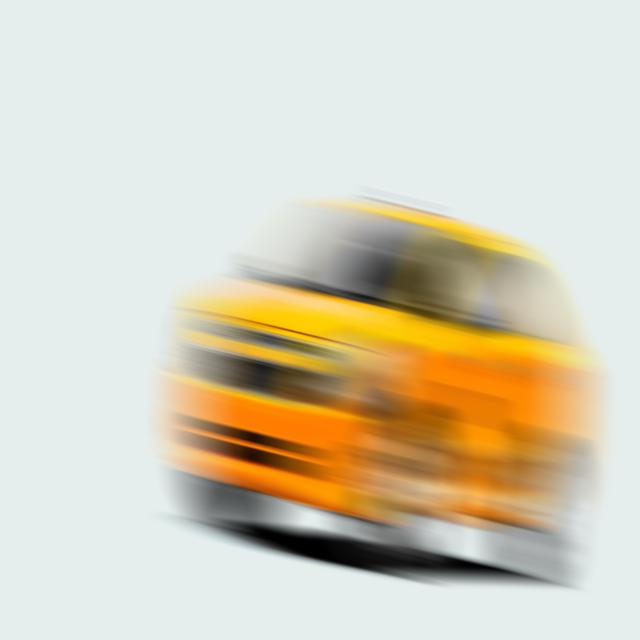Taxi: (201, 137, 640, 640)
